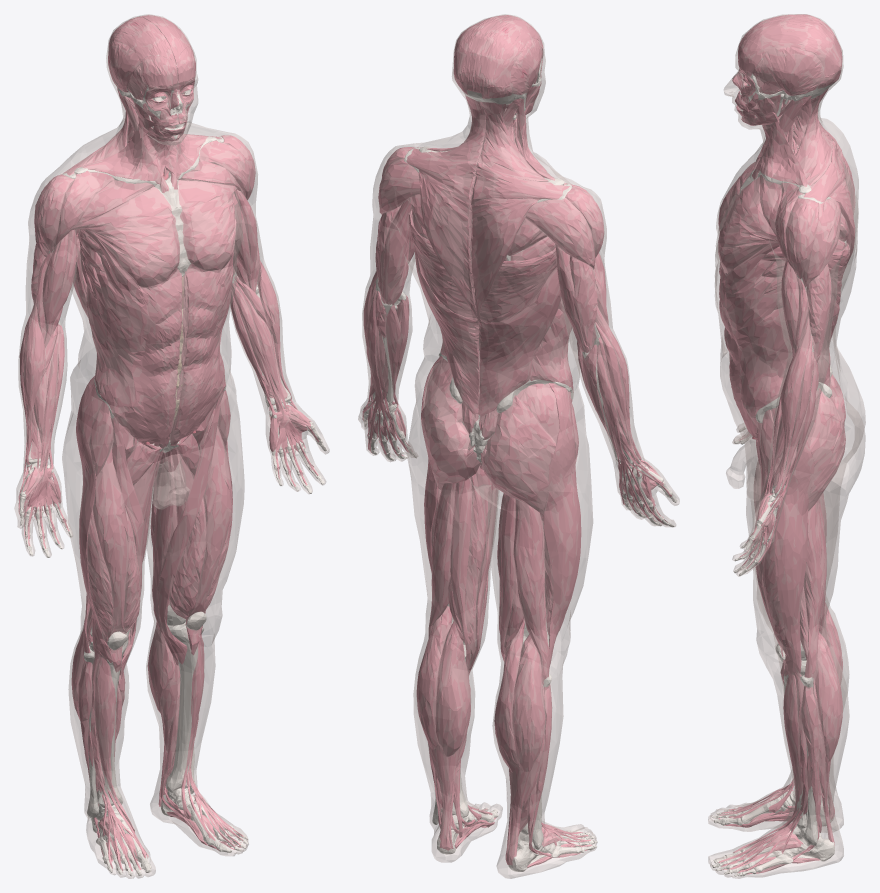
File: human-body.glb
The picture shows the model from 3 angles, left to right: view 1: azimuth 30°, elevation 25°; view 2: azimuth 150°, elevation 25°; view 3: azimuth 270°, elevation 25°; orthographic projection. The views are drawn at different scales.
Parts seen in each view (by area): view 1: skin, muscles, skeleton; view 2: skin, muscles, skeleton; view 3: skin, muscles, skeleton.
Boxes of the visible parts, x1,y1,x2,y2 form: skin: (14,14,329,878); muscles: (18,15,319,871); skeleton: (19,55,326,876); skin: (358,14,679,878); muscles: (362,15,671,868); skeleton: (363,58,677,871); skin: (708,14,865,878); muscles: (718,14,855,874); skeleton: (712,58,846,876).
Size of the model in its own units: 658 by 1655 by 285.
